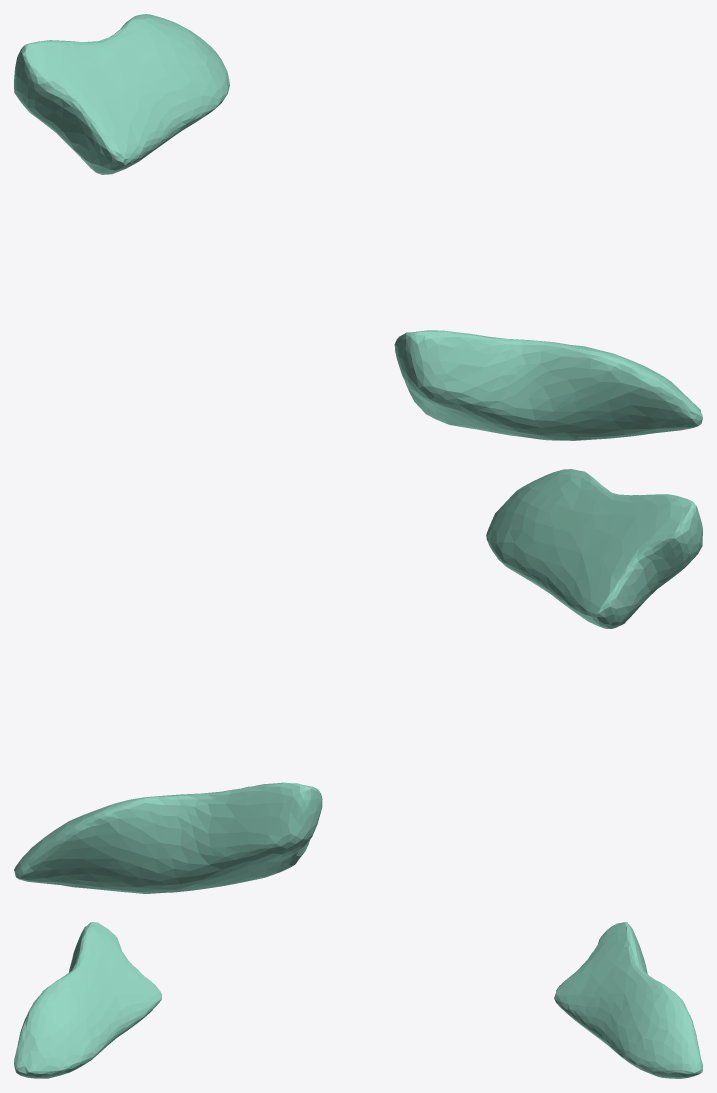
3 renders of one model, top to bottom at view 1: azimuth 30°, elevation 25°; view 2: azimuth 150°, elevation 25°; view 3: azimuth 270°, elevation 25°, orthographic. The views are drawn at different scales.
Parts seen in each view (by area): view 1: 663.obj; view 2: 663.obj; view 3: 663.obj.
Part boxes in pixels (x1,y1,x2,y2): 663.obj: [14, 14, 702, 440]; 663.obj: [14, 469, 702, 893]; 663.obj: [14, 922, 702, 1078].
Bounding box in the file's own units: 1924 × 971 × 6751.
